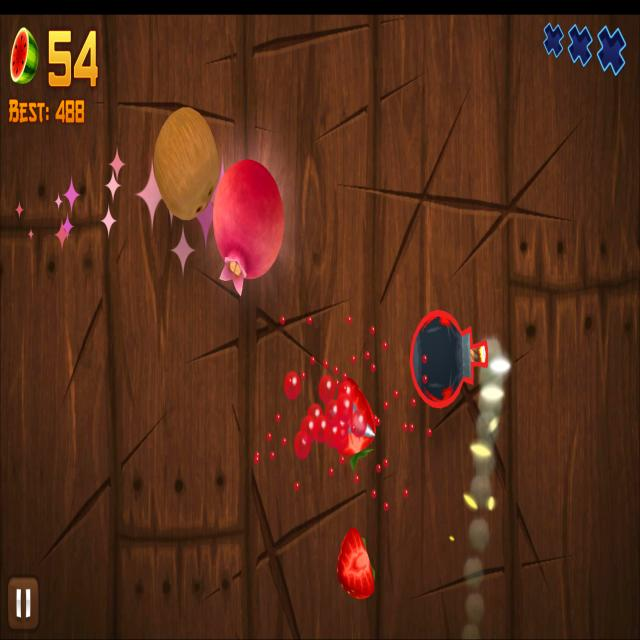bomb: (411, 308, 488, 408)
fruit: (213, 158, 284, 296), (153, 105, 218, 221)
